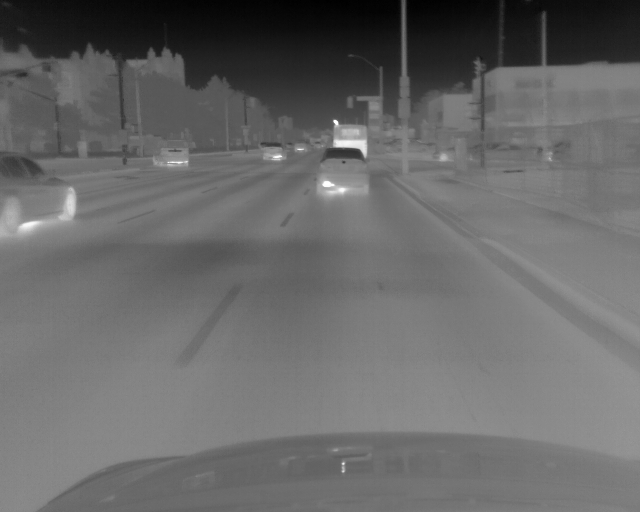car: (1, 150, 77, 234), (315, 147, 370, 196), (331, 123, 368, 157), (473, 142, 531, 161), (158, 139, 189, 168), (261, 143, 287, 163), (293, 142, 309, 155)
